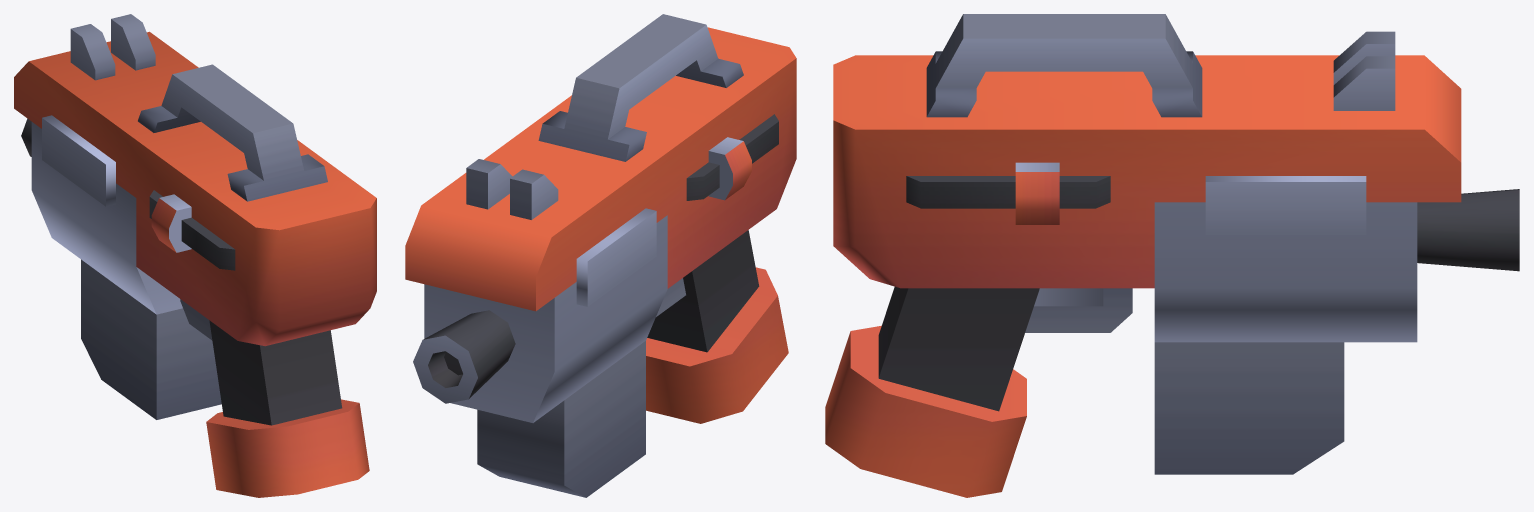
The model's file is blaster-c.glb.
3 renders of one model, left to right at view 1: azimuth 30°, elevation 25°; view 2: azimuth 150°, elevation 25°; view 3: azimuth 270°, elevation 25°, orthographic. The views are drawn at different scales.
Visible parts, largest first — view 1: blaster-c; view 2: blaster-c; view 3: blaster-c.
Boxes of the visible parts, left/top/right/bottom form: blaster-c: left=14, top=14, right=376, bottom=497; blaster-c: left=405, top=14, right=796, bottom=497; blaster-c: left=825, top=14, right=1519, bottom=497.
Size of the model in its own units: 0.165 by 0.3379 by 0.4754.
1 material, 1 textured.
